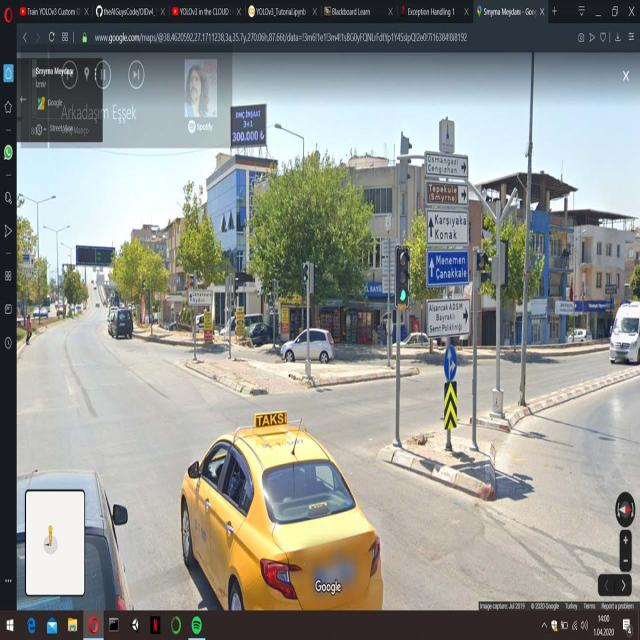ilerisag: (444, 343, 456, 381)
yesil: (396, 246, 409, 306)
